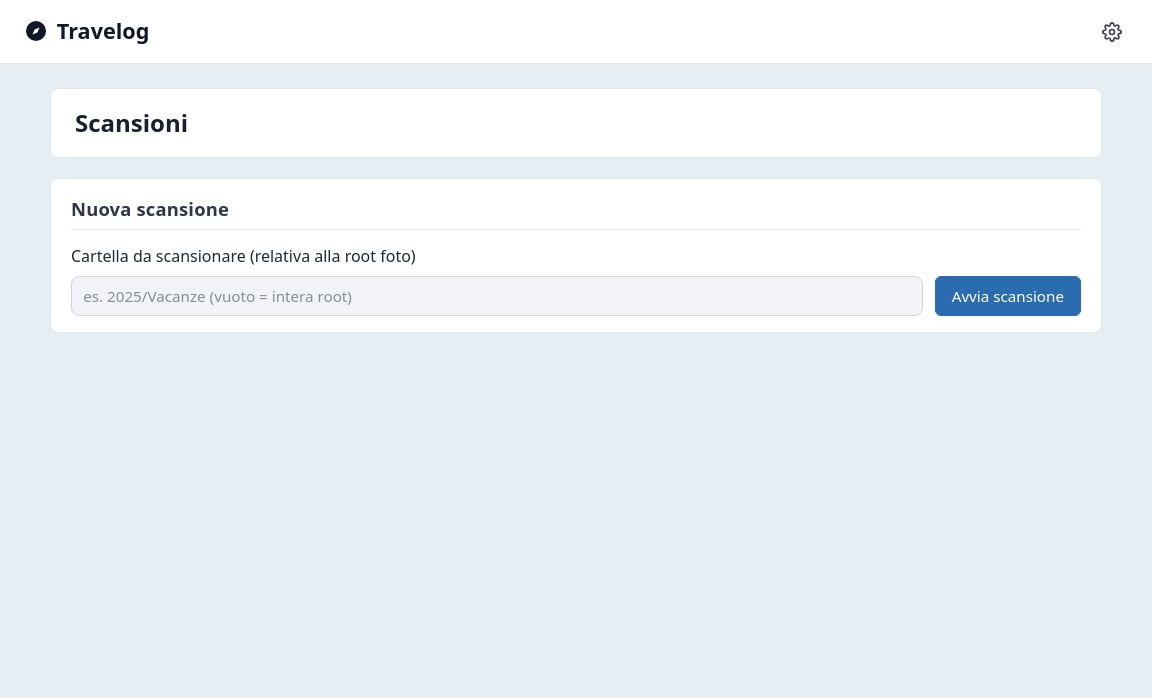
App › shows the settings page with thresholds
Click the button named "Impostazioni" at (1112, 32), box top-left (1095, 15), bottom-right (1128, 48)
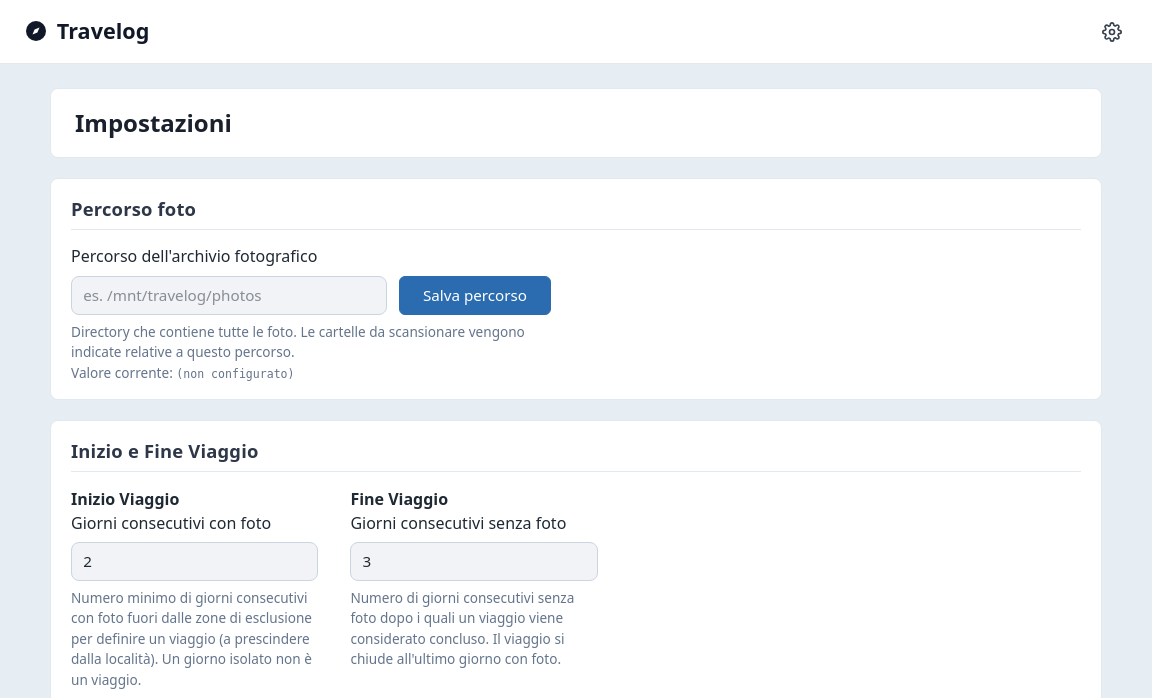
Expected: the number field labelled "Giorni consecutivi con foto" holds "2", top-left (71, 542), bottom-right (318, 581)
